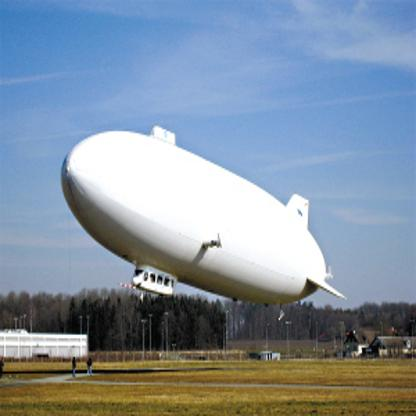Airship: (61, 122, 352, 311)
